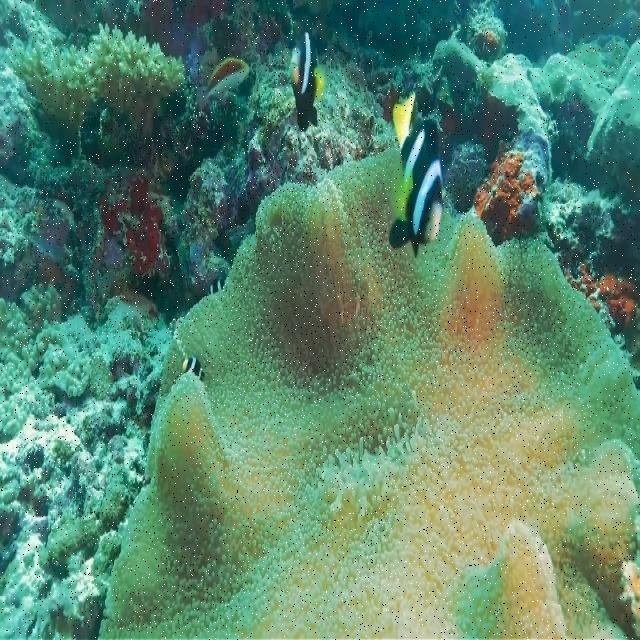fish: (389, 95, 445, 254), (288, 32, 323, 133)
reefs: (98, 143, 639, 639), (18, 35, 187, 127)
